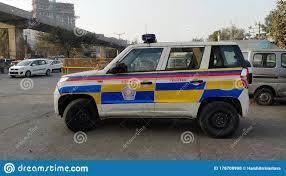Emergency-Vehicles: (53, 32, 250, 135)
